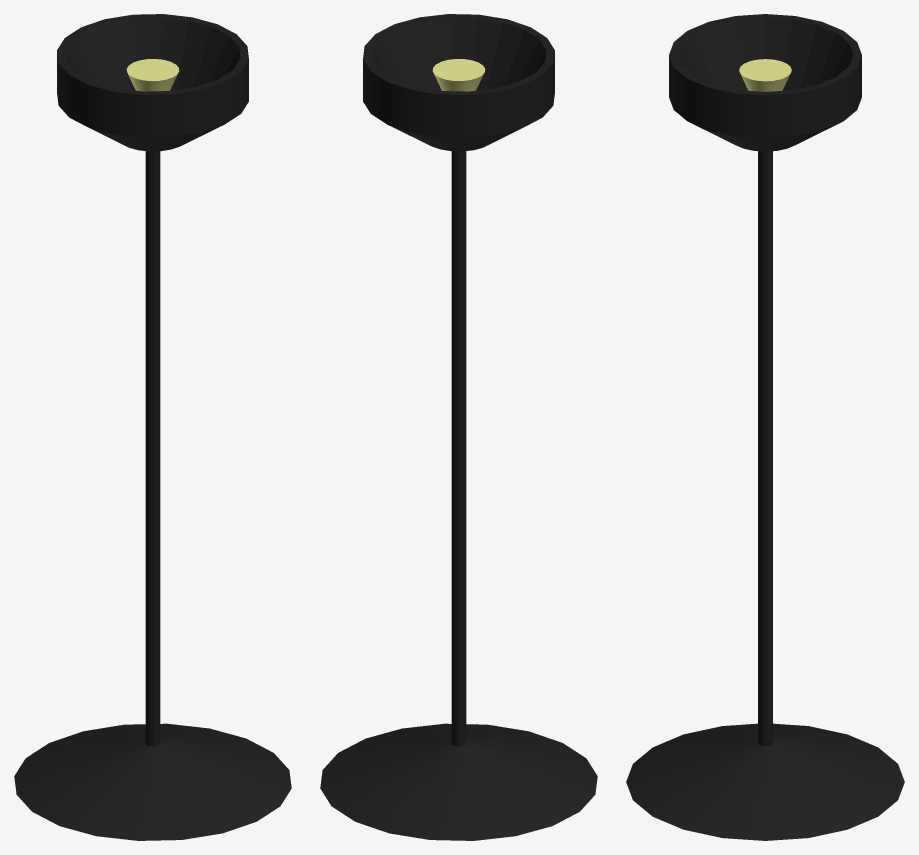
File: floor_lamp.fbx
3 renders of one model, left to right at view 1: azimuth 30°, elevation 25°; view 2: azimuth 150°, elevation 25°; view 3: azimuth 270°, elevation 25°, orthographic.
Parts seen in each view (by area): view 1: pCylinder1, pCylinder2; view 2: pCylinder1, pCylinder2; view 3: pCylinder1, pCylinder2.
Boxes of the visible parts, x1,y1,x2,y2 form: pCylinder1: (14, 14, 291, 840); pCylinder2: (126, 59, 179, 91); pCylinder1: (320, 14, 597, 840); pCylinder2: (432, 59, 485, 91); pCylinder1: (626, 14, 904, 840); pCylinder2: (739, 59, 791, 91).
Bounding box in the file's own units: 4.89 × 14.06 × 4.89.
